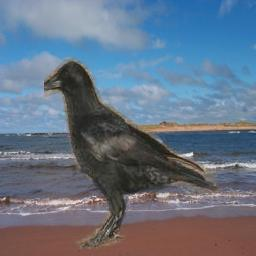Crow: (45, 57, 220, 249)
